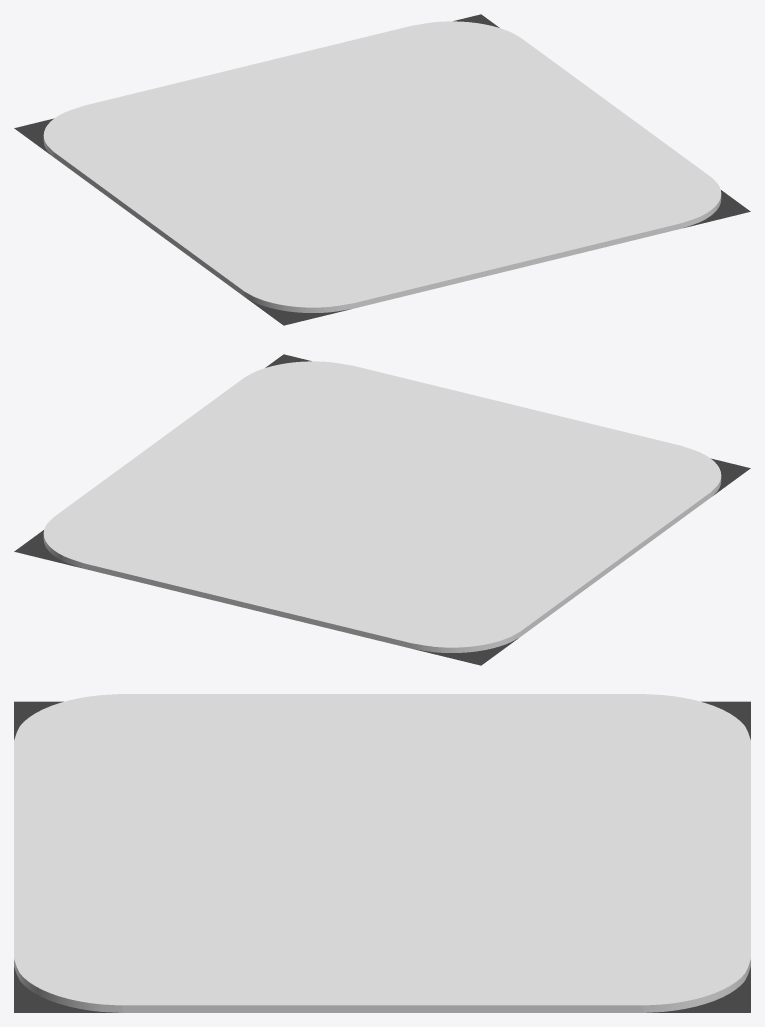
File: pavement intersection circle.fbx
The picture shows the model from 3 angles, top to bottom: view 1: azimuth 30°, elevation 25°; view 2: azimuth 150°, elevation 25°; view 3: azimuth 270°, elevation 25°; orthographic projection. The views are drawn at different scales.
Parts seen in each view (by area): view 1: pavement_intersection_circle; view 2: pavement_intersection_circle; view 3: pavement_intersection_circle.
Boxes of the visible parts, box(x1,y1,x2,y2) form: pavement_intersection_circle: box(14, 14, 750, 325); pavement_intersection_circle: box(14, 354, 750, 665); pavement_intersection_circle: box(14, 694, 750, 1012).
Size of the model in its own units: 1000 by 11.2 by 1000.
